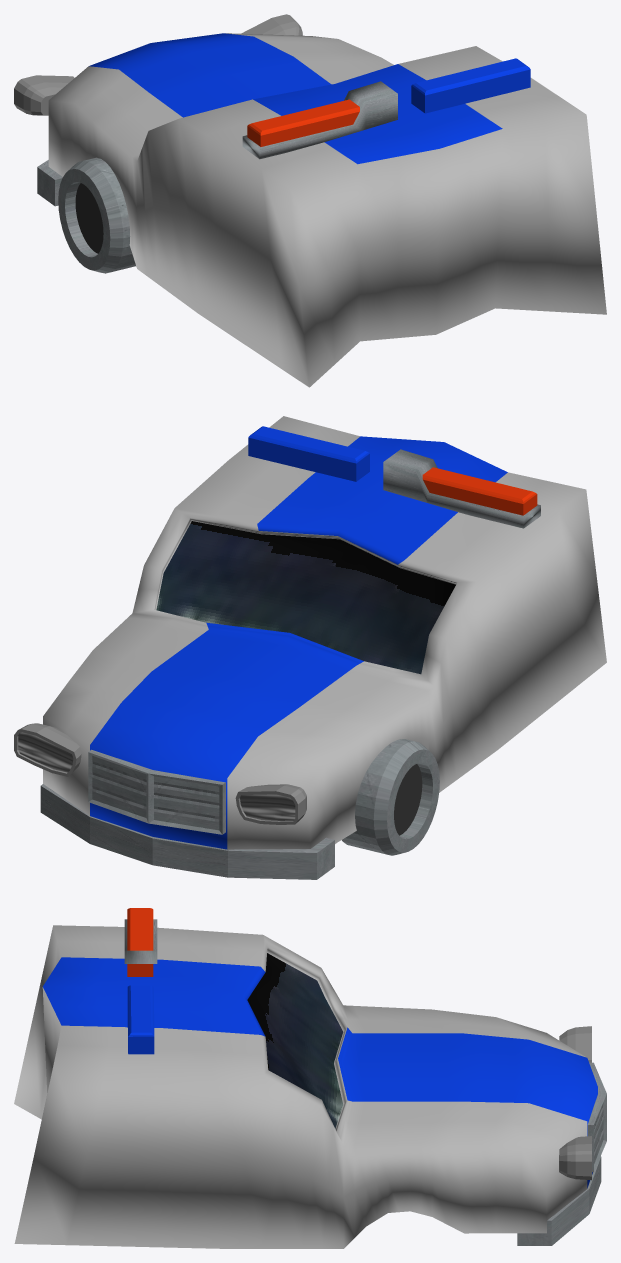
The model's file is car.glb.
The picture shows the model from 3 angles, top to bottom: view 1: azimuth 30°, elevation 25°; view 2: azimuth 150°, elevation 25°; view 3: azimuth 270°, elevation 25°; orthographic projection. The views are drawn at different scales.
Visible parts, largest first — view 1: CAR, wheels, lightBLUE, lightsbase, lightRED, LIGHT.001, LIGHT, lower bumper; view 2: CAR, lower bumper, wheels, bumper, lightBLUE, lightsbase, lightRED, LIGHT, LIGHT.001; view 3: CAR, lower bumper, lightBLUE, lightRED, LIGHT, bumper, lightsbase, LIGHT.001.
Part boxes in pixels (x1,y1,x2,y2): CAR: (48,33,606,387); wheels: (58,157,135,273); lightBLUE: (411,58,530,113); lightsbase: (242,81,397,159); lightRED: (247,99,359,146); LIGHT.001: (14,75,74,115); LIGHT: (241,14,302,35); lower bumper: (37,160,62,206); CAR: (43,416,606,849); lower bumper: (40,784,334,879); wheels: (342,739,439,855); bumper: (88,749,225,834); lightBLUE: (248,426,369,481); lightsbase: (383,449,540,528); lightRED: (422,467,537,515); LIGHT: (14,723,81,776); LIGHT.001: (235,784,306,824); CAR: (14,925,597,1248); lower bumper: (517,1156,601,1245); lightBLUE: (127,985,154,1054); lightRED: (127,908,153,976); LIGHT: (559,1136,591,1180); bumper: (587,1062,606,1172); lightsbase: (124,919,157,963); LIGHT.001: (559,1026,591,1062).
Size of the model in its own units: 21.38 by 16.12 by 36.14.
Materials: 8 (3 with a texture image).
